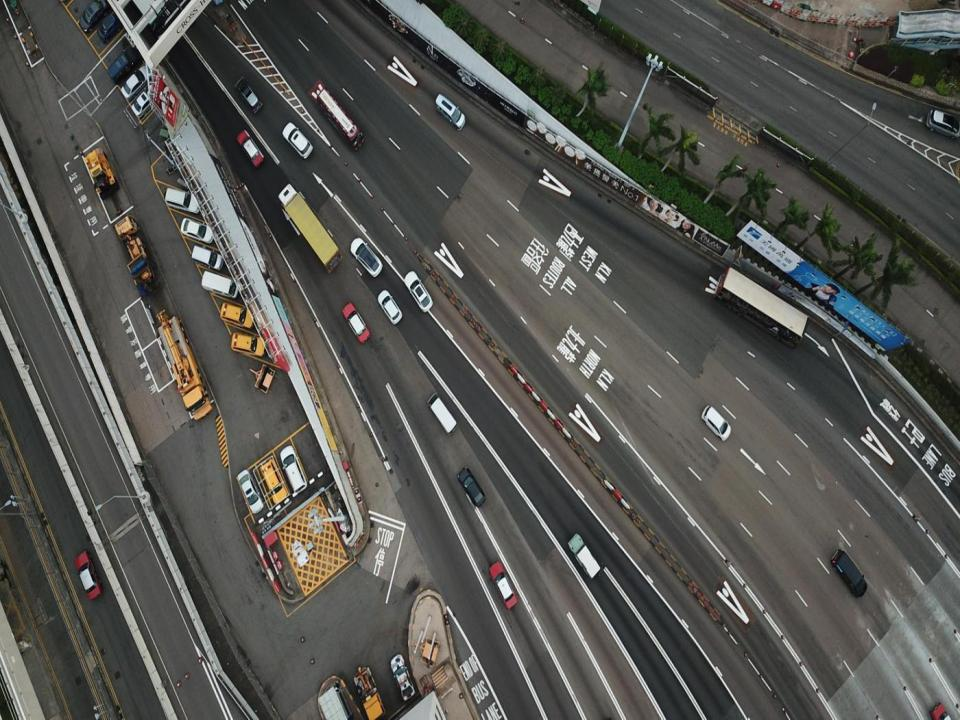bus: (714, 267, 808, 345), (317, 88, 364, 150)
car: (489, 558, 517, 612), (74, 551, 100, 599), (350, 237, 382, 276), (120, 62, 152, 100), (237, 468, 264, 513), (342, 302, 370, 344), (404, 270, 432, 312), (132, 79, 162, 118), (390, 653, 414, 701), (458, 467, 484, 507), (236, 129, 264, 166), (78, 1, 108, 33), (180, 218, 215, 245), (97, 10, 123, 42), (378, 290, 402, 324)
truck: (156, 310, 213, 419), (278, 182, 343, 273), (113, 213, 161, 296), (354, 667, 386, 719), (568, 532, 600, 579)
van: (832, 549, 868, 598), (107, 45, 143, 85), (426, 393, 457, 435), (699, 403, 731, 442), (280, 445, 306, 493), (434, 93, 466, 132), (261, 457, 287, 504), (201, 270, 241, 298), (282, 121, 313, 157), (233, 76, 263, 112), (925, 109, 960, 139), (165, 187, 203, 213), (220, 302, 255, 330), (231, 332, 268, 357), (191, 245, 226, 270)
